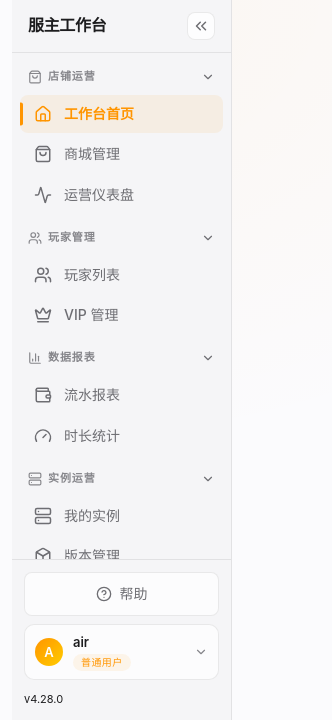
Scenario: Layout — /store 侧边栏用户菜单切换项 › 玩家身份：侧边栏菜单显示「切换为服主」
The width and height of the screenshot is (332, 720).
Click the button with aria-label "用户菜单" at (122, 652), box [24,624,219,680]
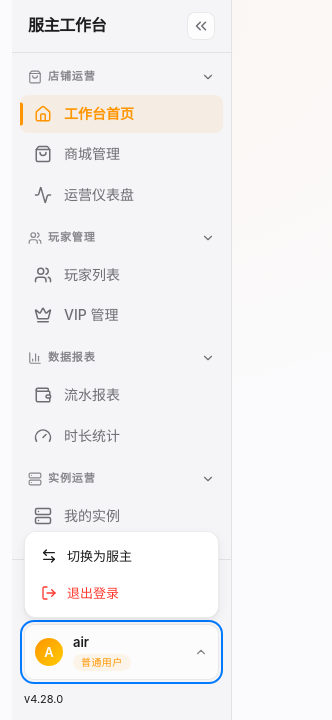
Check: the menu item "切换为服主" is shown, box [31,538,212,574]
